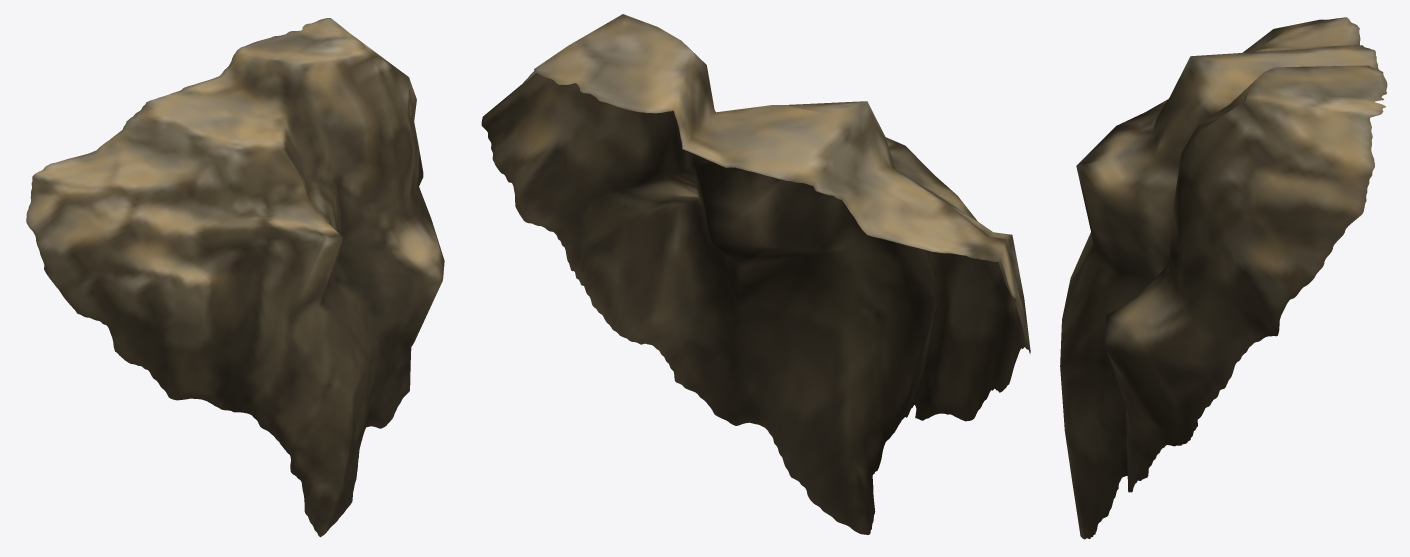
The model's file is xssm_rock_2_04.FBX.
3 views of the same model, side by side, from view 1: azimuth 30°, elevation 25°; view 2: azimuth 150°, elevation 25°; view 3: azimuth 270°, elevation 25° (orthographic). The views are drawn at different scales.
Visible parts, largest first — view 1: xssm_rock_2_04; view 2: xssm_rock_2_04; view 3: xssm_rock_2_04.
Part boxes in pixels (x1,y1,x2,y2): xssm_rock_2_04: (26, 18, 444, 537); xssm_rock_2_04: (481, 14, 1030, 534); xssm_rock_2_04: (1060, 17, 1387, 539).
Bounding box in the file's own units: 366 × 366 × 217.
